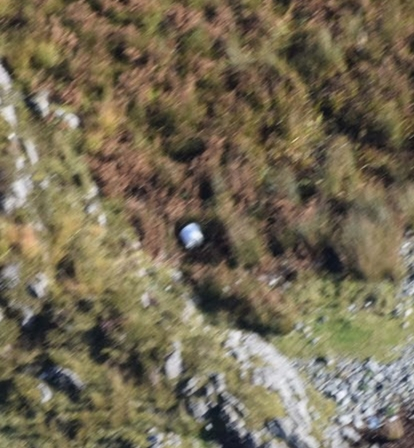white_in_green: (159, 207, 222, 261)
